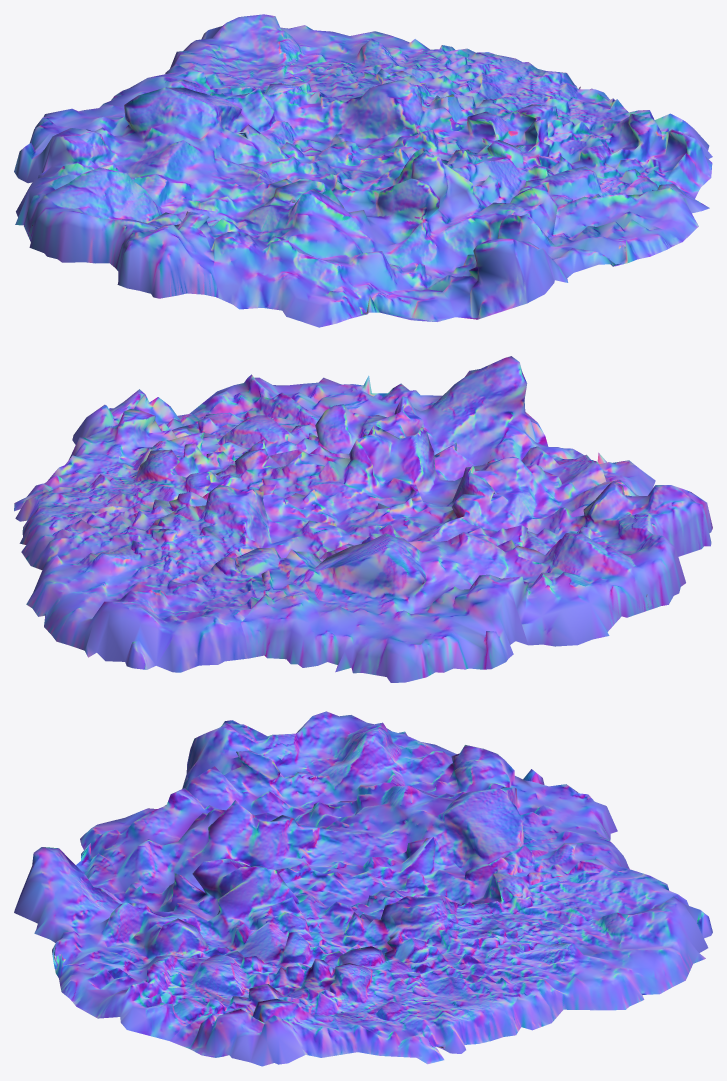
Rendered from TerrainDeco009 Mossy Variant.fbx.
3 renders of one model, top to bottom at view 1: azimuth 30°, elevation 25°; view 2: azimuth 150°, elevation 25°; view 3: azimuth 270°, elevation 25°, orthographic. The views are drawn at different scales.
Parts seen in each view (by area): view 1: TD09_LOD0; view 2: TD09_LOD0; view 3: TD09_LOD0.
Boxes of the visible parts, x1,y1,x2,y2 form: TD09_LOD0: [14, 14, 712, 327]; TD09_LOD0: [14, 356, 712, 682]; TD09_LOD0: [14, 711, 712, 1066].
Bounding box in the file's own units: 326 × 42.29 × 316.
